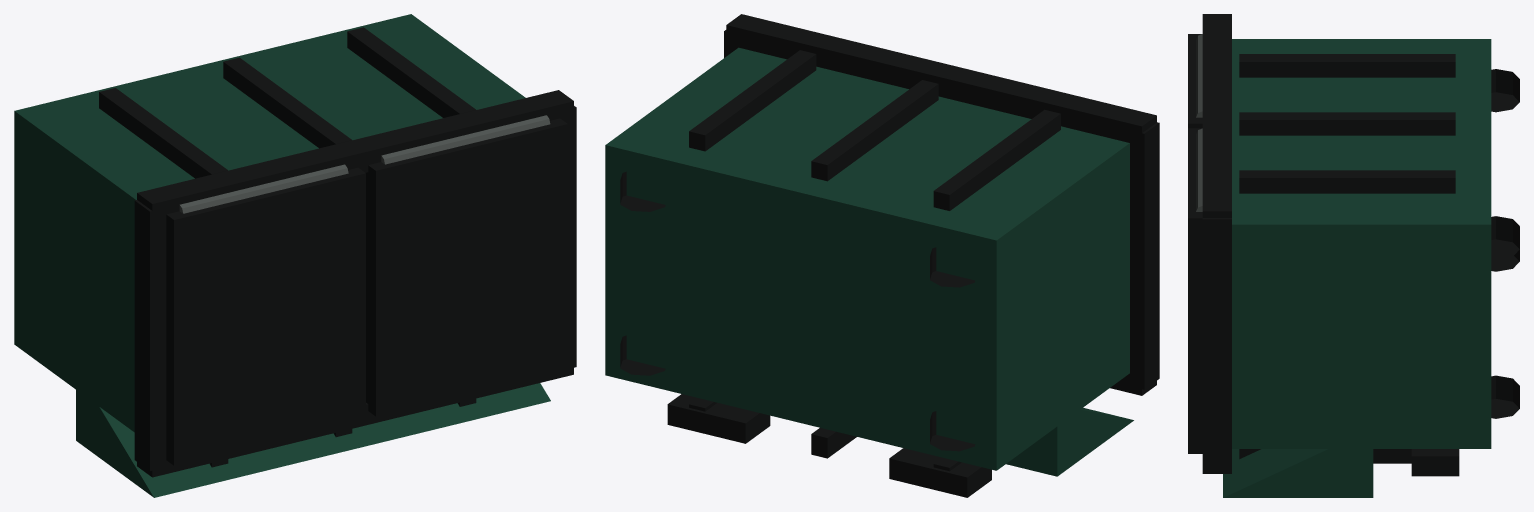
Rendered from dumpster_green.obj.
3 views of the same model, side by side, from view 1: azimuth 30°, elevation 25°; view 2: azimuth 150°, elevation 25°; view 3: azimuth 270°, elevation 25° (orthographic). The views are drawn at different scales.
Visible parts, largest first — view 1: dumpster_body, lid_2, lid_1, front_slope, top_rim_back, top_rim_left, back_rib_2, back_rib_3, back_rib_1, top_rim_front, top_rim_right, hinge_1 (+1 smaller); view 2: dumpster_body, top_rim_back, top_rim_left, front_slope, back_rib_1, back_rib_2, back_rib_3, fork_pocket_2, fork_pocket_1, front_rib_2, caster_1, caster_4 (+2 smaller); view 3: dumpster_body, top_rim_right, front_slope, top_rim_back, back_rib_1, back_rib_2, back_rib_3, lid_2, fork_pocket_2, caster_3, caster_4, caster_2 (+5 smaller).
Part boxes in pixels (x1,y1,x2,y2): dumpster_body: (14,14,525,432); lid_2: (366,118,567,416); lid_1: (166,167,365,465); front_slope: (76,376,550,497); top_rim_back: (137,90,573,224); top_rim_left: (134,200,168,470); back_rib_2: (223,57,351,148); back_rib_3: (347,27,475,117); back_rib_1: (99,88,227,178); top_rim_front: (137,354,573,477); top_rim_right: (556,106,576,367); hinge_1: (179,164,348,213); dumpster_body: (605,47,1129,470); top_rim_back: (726,14,1156,146); top_rim_left: (1125,122,1159,389); front_slope: (1006,407,1133,476); back_rib_1: (933,109,1060,210); back_rib_2: (811,80,938,181); back_rib_3: (689,50,816,151); fork_pocket_2: (667,394,770,443); fork_pocket_1: (889,448,991,497); front_rib_2: (811,428,856,458); caster_1: (930,411,975,451); caster_4: (620,171,665,211); dumpster_body: (1232,39,1491,448); top_rim_right: (1202,218,1231,468); front_slope: (1223,429,1373,497); top_rim_back: (1202,14,1231,217); back_rib_1: (1239,54,1455,77); back_rib_2: (1239,112,1455,135); back_rib_3: (1239,170,1455,193); lid_2: (1188,128,1202,453); fork_pocket_2: (1411,449,1459,476); caster_3: (1491,69,1519,112); caster_4: (1491,216,1519,259); caster_2: (1491,375,1519,418).
Bounding box in the file's own units: 2.58 × 1.76 × 1.81.
